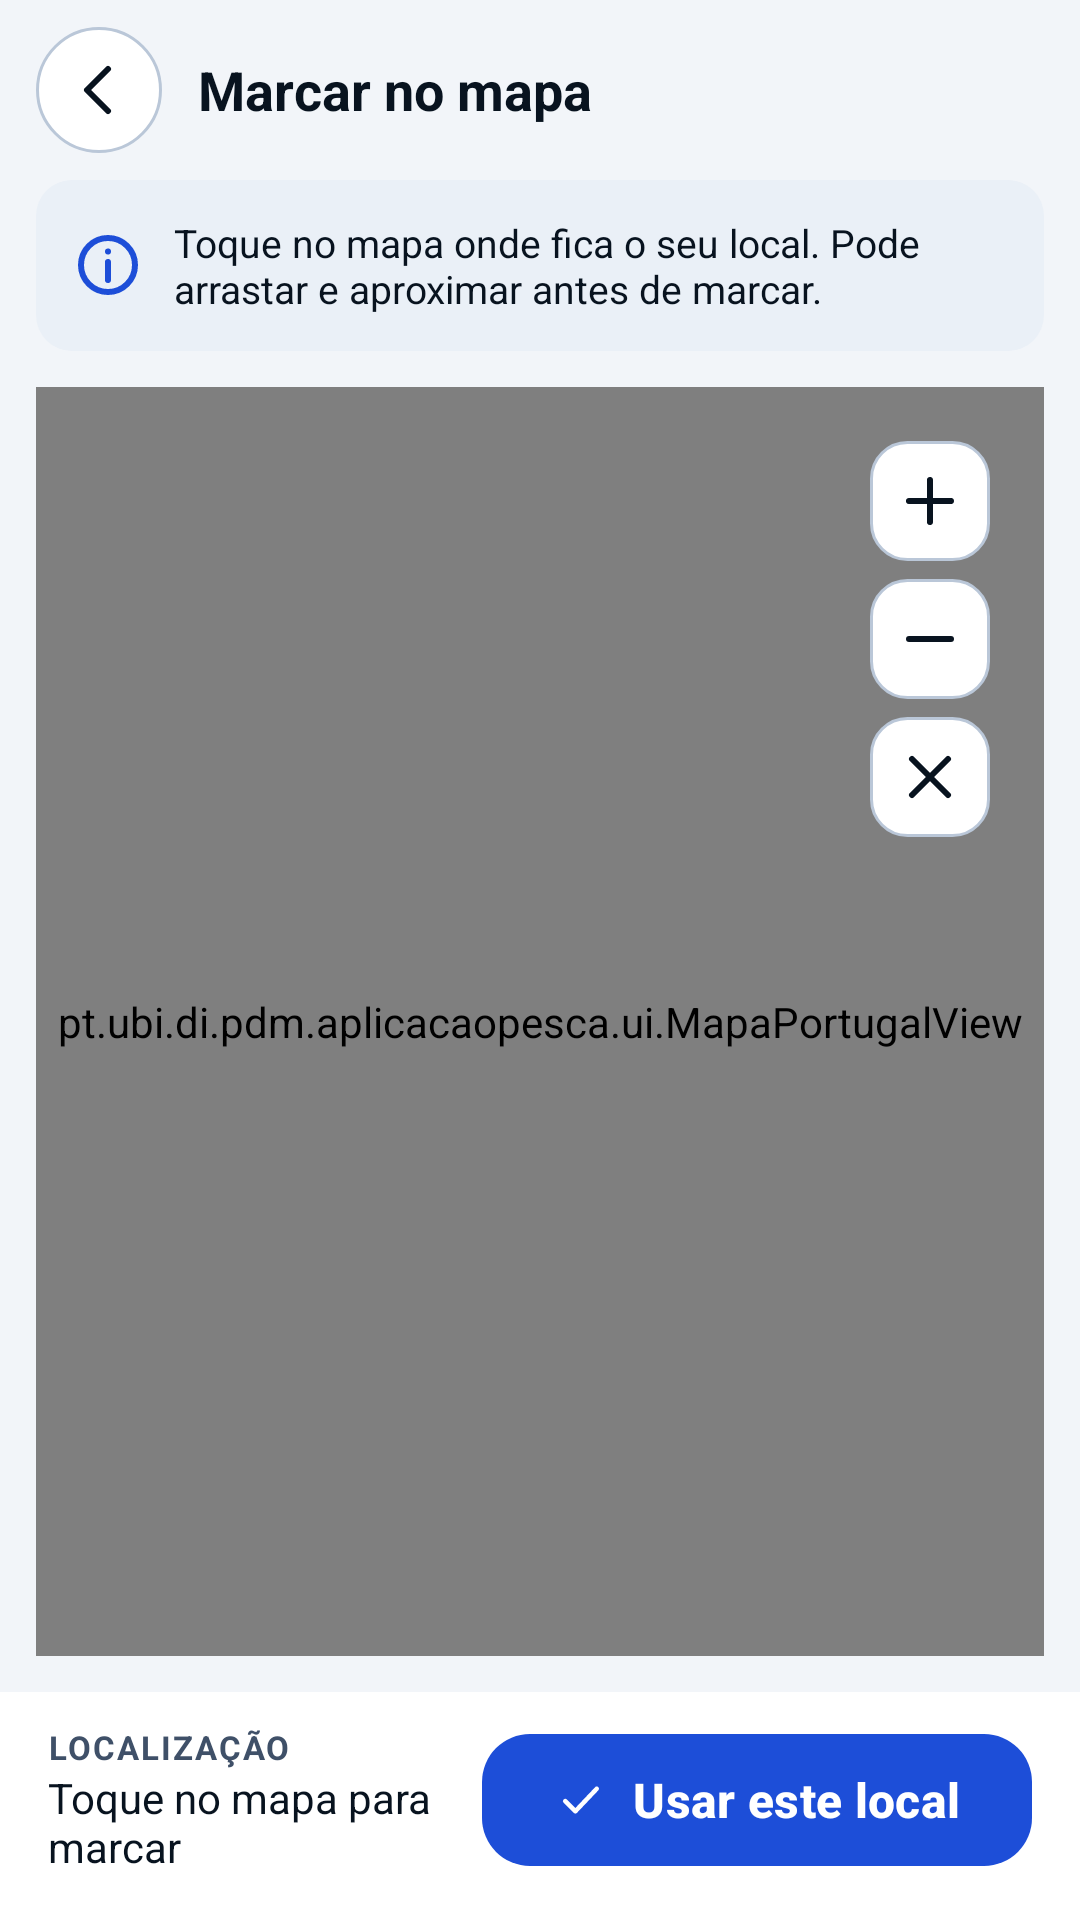

Icon click points for this 1080px x 1920px phone screenshot, format point (x, y):
Afastar: point (930, 639)
Voltar: point (99, 90)
